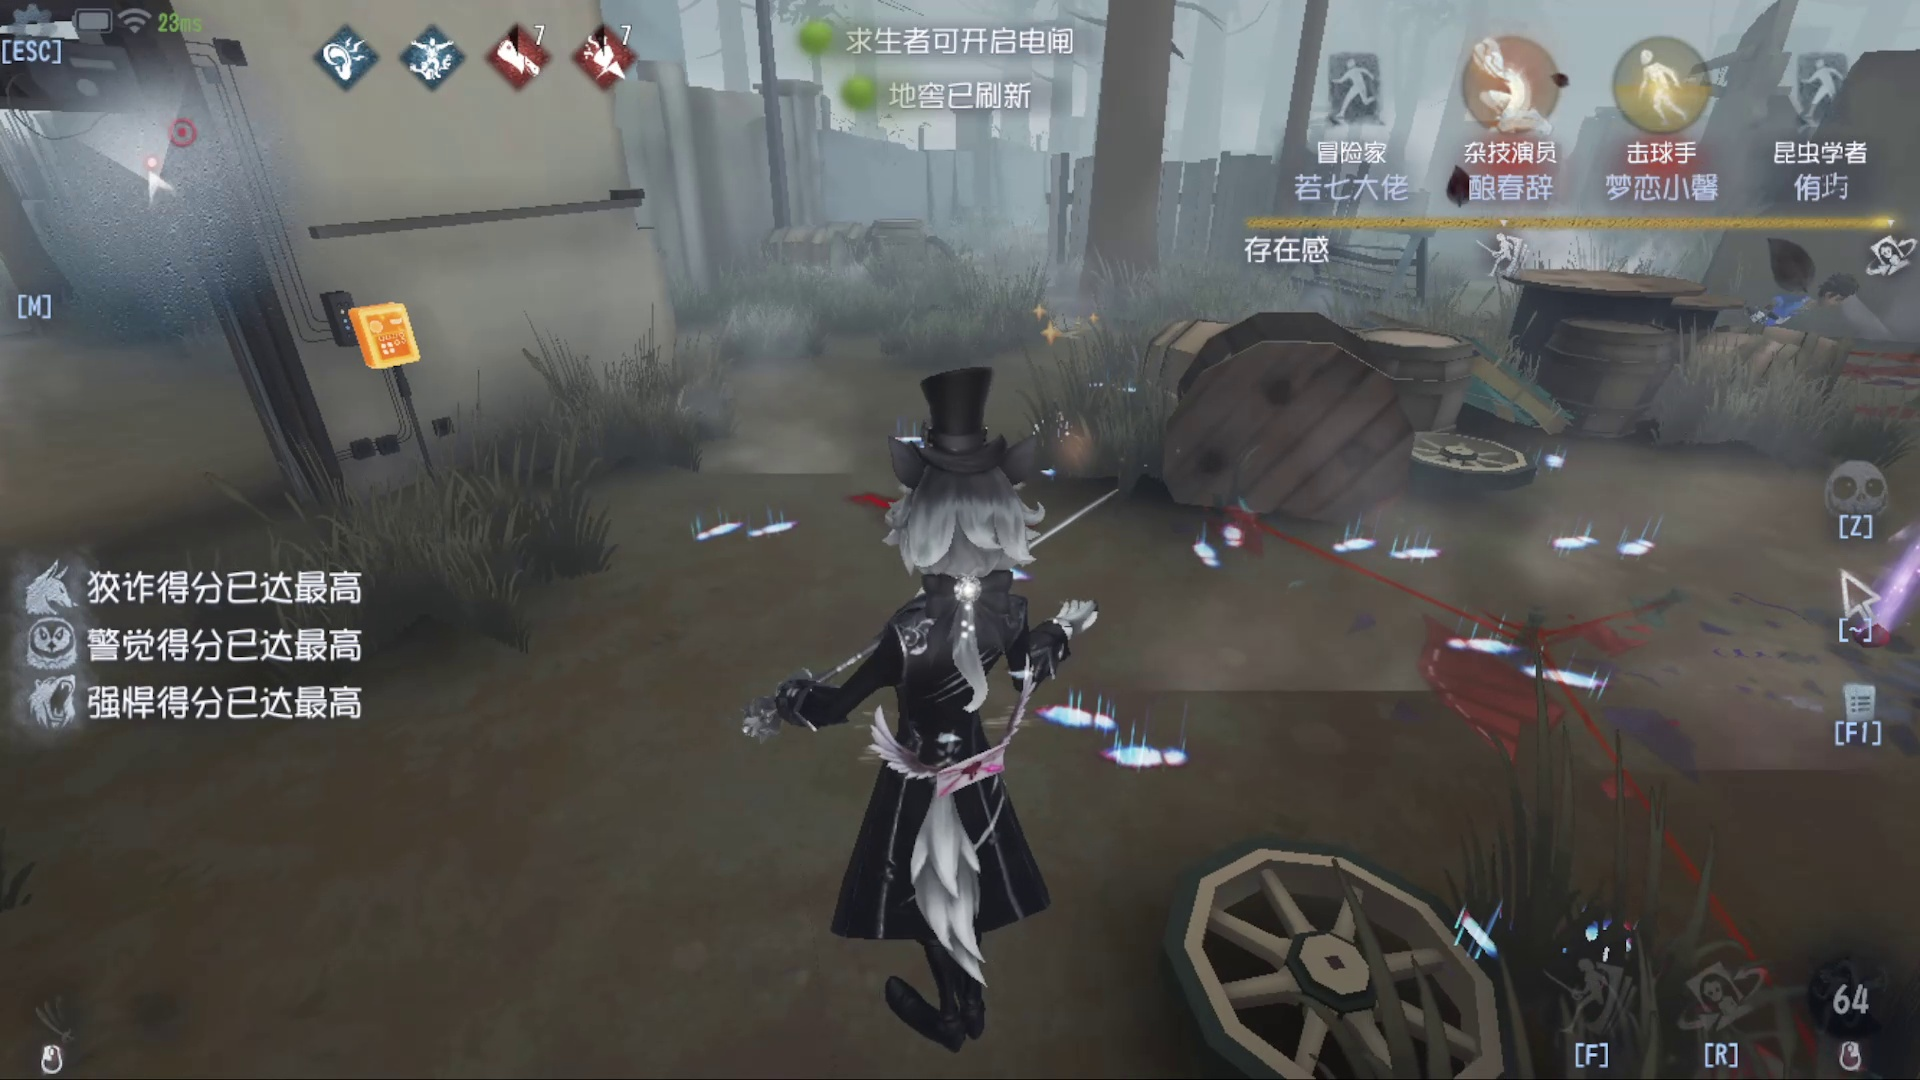木板: (1396, 291, 1588, 443)
求生者: (1751, 243, 1836, 344)
脚印: (1242, 506, 1731, 811)
